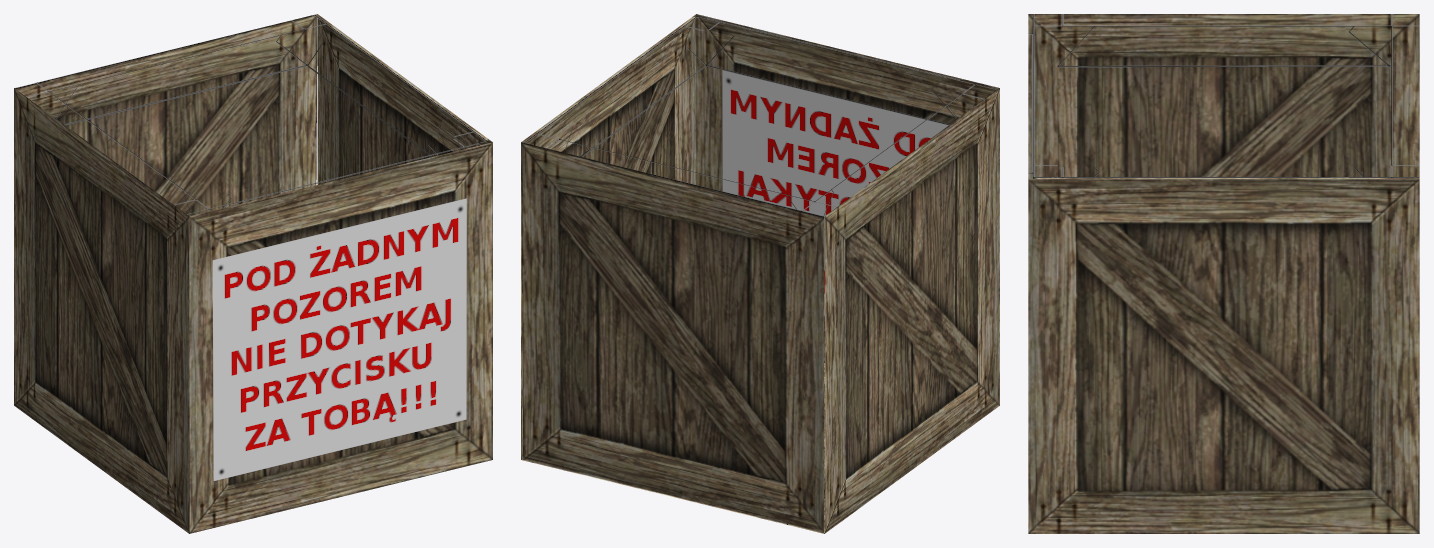
File: fireworks.obj
The picture shows the model from 3 angles, left to right: view 1: azimuth 30°, elevation 25°; view 2: azimuth 150°, elevation 25°; view 3: azimuth 270°, elevation 25°; orthographic projection. The views are drawn at different scales.
Parts seen in each view (by area): view 1: Cube; view 2: Cube; view 3: Cube.
Boxes of the visible parts, box(x1,y1,x2,y2) form: Cube: box(14, 14, 492, 533); Cube: box(521, 14, 999, 533); Cube: box(1028, 14, 1419, 533).
Bounding box in the file's own units: 2 × 2 × 2.
1 material, 1 textured.
